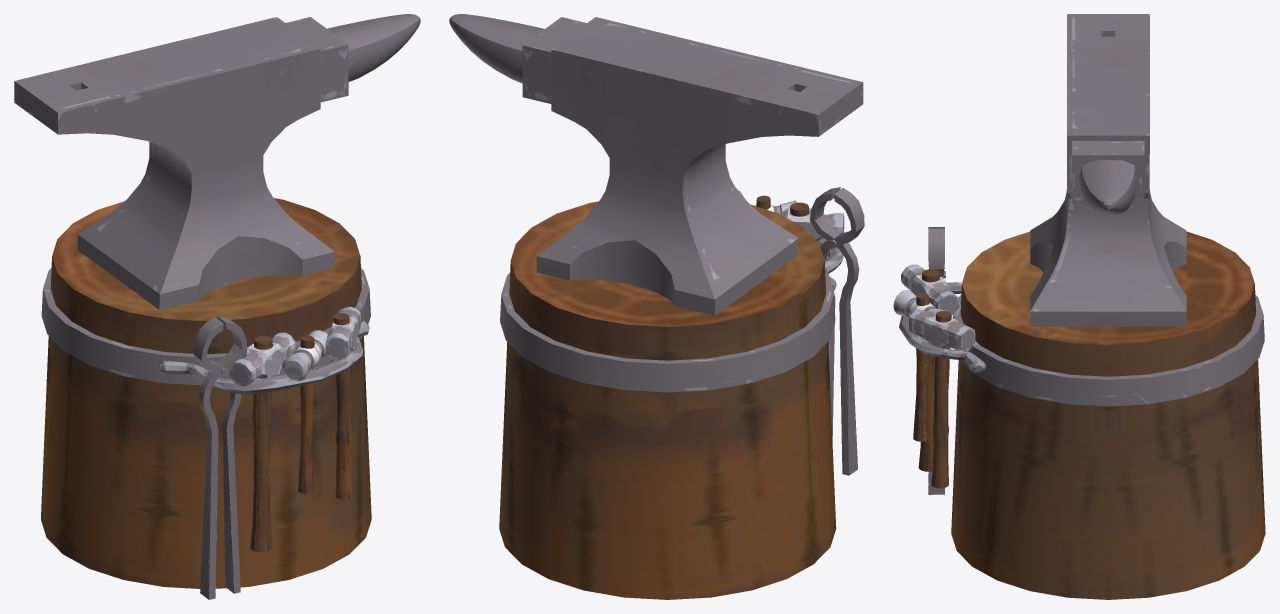
File: anvil_log.gltf
The picture shows the model from 3 angles, left to right: view 1: azimuth 30°, elevation 25°; view 2: azimuth 150°, elevation 25°; view 3: azimuth 270°, elevation 25°; orthographic projection. The views are drawn at different scales.
Parts seen in each view (by area): view 1: Anvil_Log; view 2: Anvil_Log; view 3: Anvil_Log.
Part boxes in pixels (bbox=[...]): Anvil_Log: bbox=[14, 14, 420, 599]; Anvil_Log: bbox=[449, 14, 864, 599]; Anvil_Log: bbox=[893, 14, 1265, 599].
Size of the model in its own units: 0.9293 by 1.07 by 0.8214.
3 materials, 3 textured.
